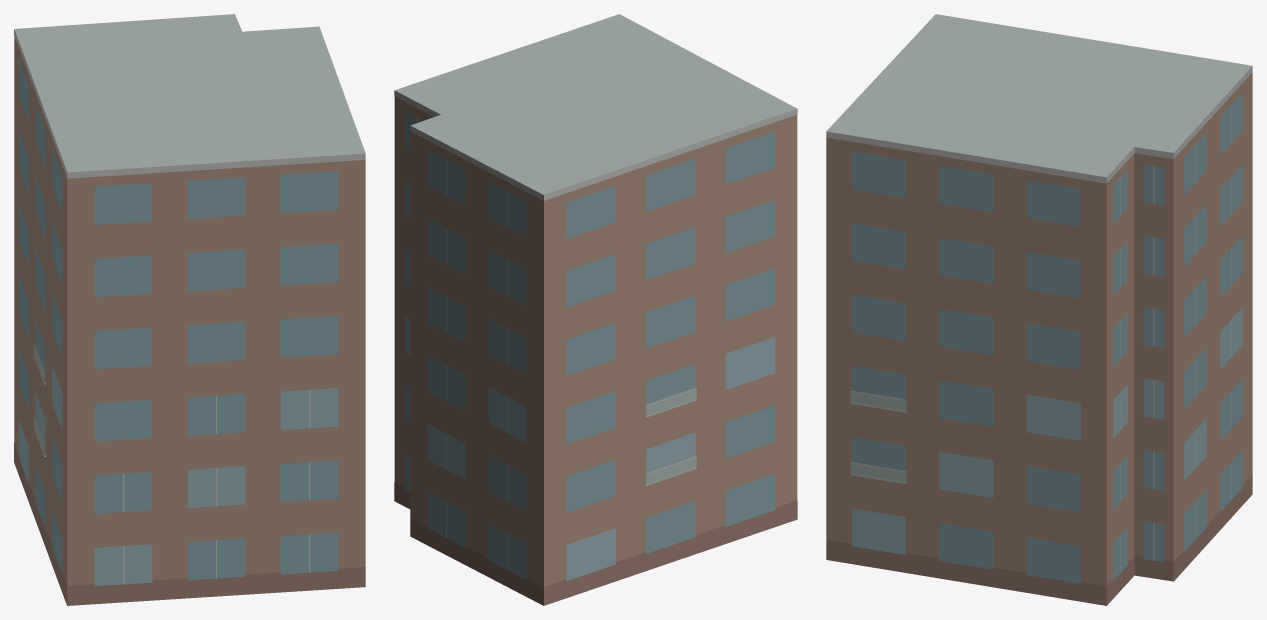
The model's file is survey-upis-32878401.glb.
3 renders of one model, left to right at view 1: azimuth 30°, elevation 25°; view 2: azimuth 150°, elevation 25°; view 3: azimuth 270°, elevation 25°, orthographic. The views are drawn at different scales.
Parts seen in each view (by area): view 1: survey-upis-32878401.tmp; view 2: survey-upis-32878401.tmp; view 3: survey-upis-32878401.tmp.
Boxes of the visible parts, x1,y1,x2,y2 form: survey-upis-32878401.tmp: (14,14,365,605); survey-upis-32878401.tmp: (394,14,797,605); survey-upis-32878401.tmp: (826,14,1252,605).
Size of the model in its own units: 13.91 by 17 by 15.34.
